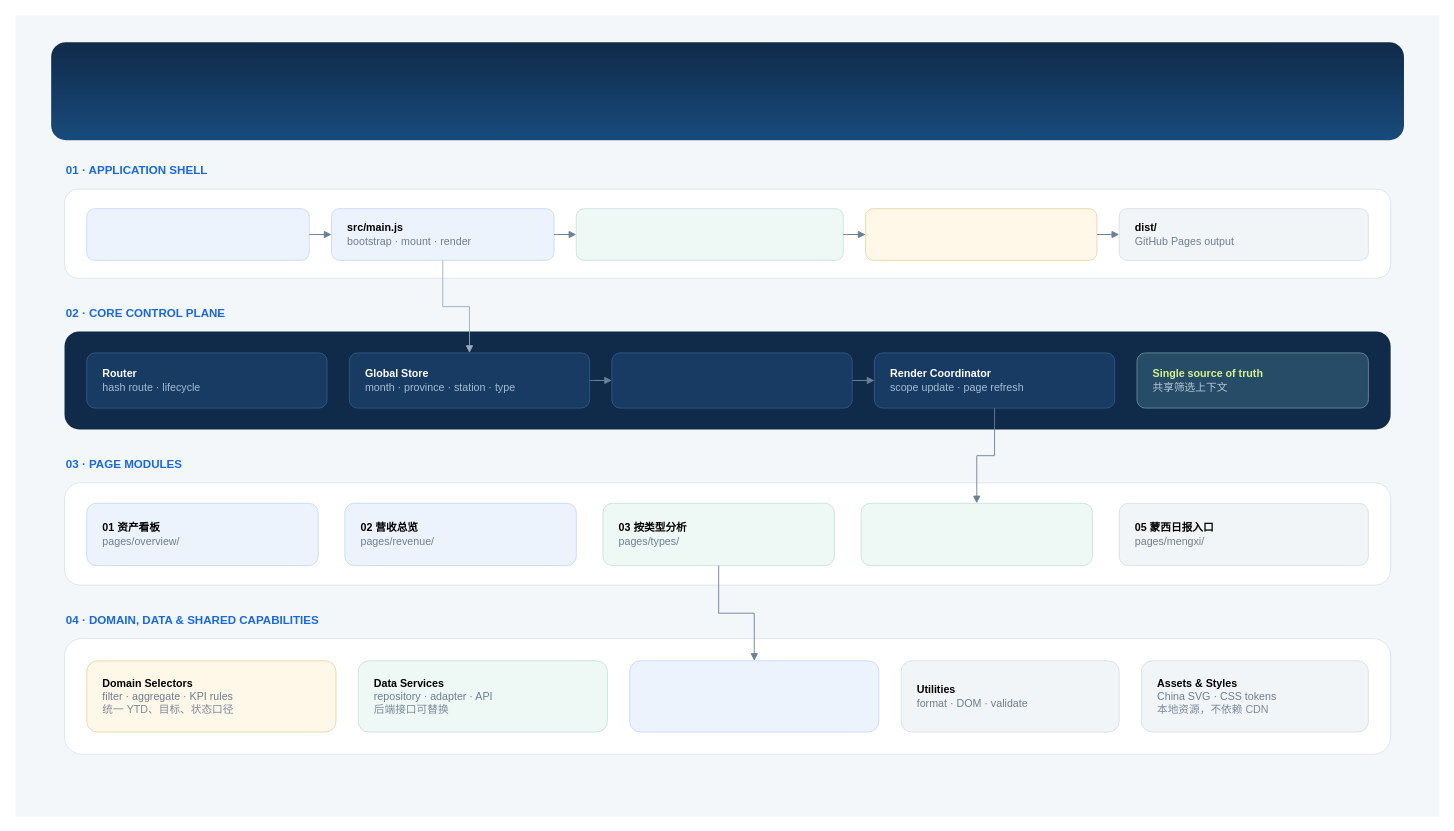
Image size: 1454x831. Some labels were removed from this diagram. The centre of each missing label's shape, as x and y in pixels:
04 按站点分析 pages/stations/: the point at 976,534
Actions intent · state transition: the point at 731,380
Asset Intellgent · 模块化前端架构 Vanilla JavaScript + ES Modules + Vite: the point at 727,91
index.html #app · semantic shell: the point at 197,234
Shared Components KPI · table · map · tabs 五页复用的无框架组件: the point at 754,696
Vite Runtime ESM graph · HMR · dev server: the point at 709,234
vite.config.js base · build · aliases: the point at 981,234
